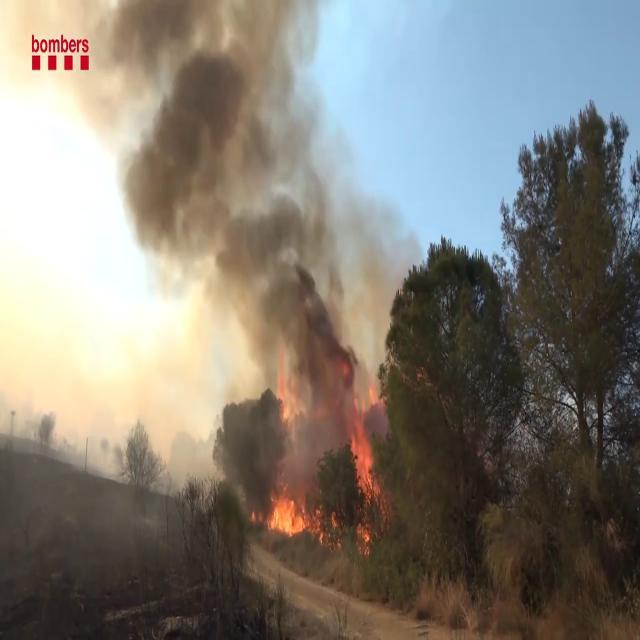Fire: (346, 399, 384, 544), (264, 484, 320, 542)
Smoke: (105, 0, 366, 469)
